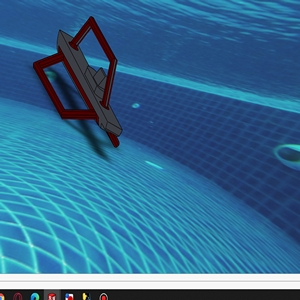submarine: (32, 16, 123, 147)
